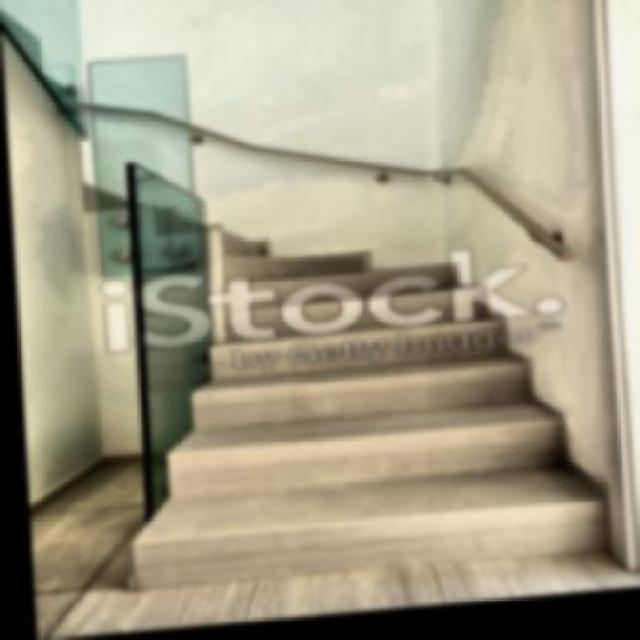stair: (131, 152, 612, 588)
